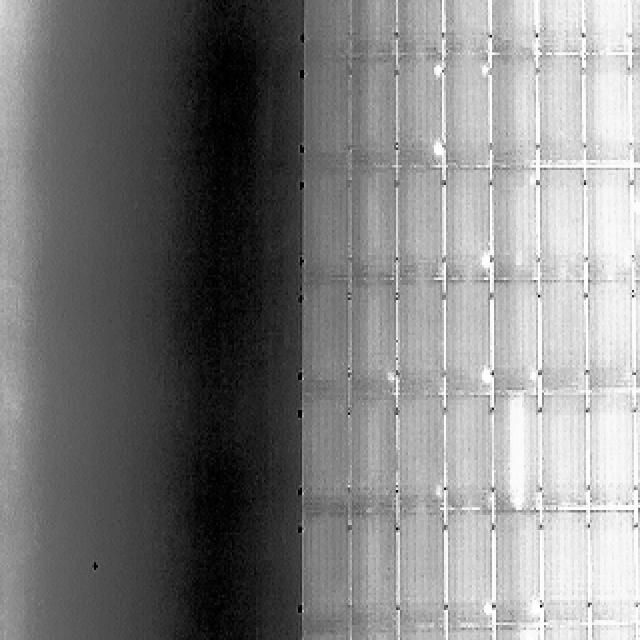Hotspots: (429, 132, 450, 164), (474, 594, 495, 618), (376, 369, 401, 389), (475, 363, 494, 389), (524, 594, 543, 619), (428, 479, 446, 503), (430, 57, 445, 82), (476, 251, 494, 271), (529, 361, 542, 387), (630, 190, 640, 222), (479, 60, 492, 83), (518, 627, 540, 640)
PV-modules: (397, 392, 449, 514), (397, 512, 448, 636), (304, 510, 356, 630), (590, 385, 638, 509), (539, 390, 589, 509), (396, 279, 446, 397), (493, 390, 542, 510), (351, 167, 402, 282), (353, 512, 401, 634), (537, 282, 586, 401), (302, 396, 353, 510), (488, 282, 537, 399), (486, 164, 535, 281), (302, 167, 353, 279), (447, 281, 494, 402), (536, 165, 585, 281), (302, 280, 351, 394), (490, 54, 539, 167), (352, 394, 398, 514), (447, 392, 494, 509), (592, 511, 640, 625), (397, 59, 447, 168), (445, 164, 491, 282), (349, 61, 400, 167), (586, 165, 632, 282), (536, 53, 584, 165), (401, 165, 446, 283), (302, 61, 352, 167), (451, 511, 496, 628), (442, 56, 490, 165), (585, 52, 631, 165), (586, 282, 632, 394), (494, 513, 539, 627), (544, 510, 590, 620), (354, 281, 394, 395), (348, 0, 399, 60), (398, 0, 448, 61), (302, 0, 351, 62), (444, 0, 494, 59), (490, 0, 538, 55), (536, 0, 584, 52), (585, 0, 630, 52), (628, 50, 640, 162), (630, 385, 640, 507), (630, 162, 640, 280), (630, 280, 640, 392), (542, 620, 592, 640), (594, 622, 640, 640), (302, 627, 356, 640), (634, 510, 640, 625), (492, 627, 542, 640), (448, 627, 498, 640), (630, 0, 640, 50), (398, 630, 448, 640), (354, 630, 402, 640), (638, 625, 640, 640)
